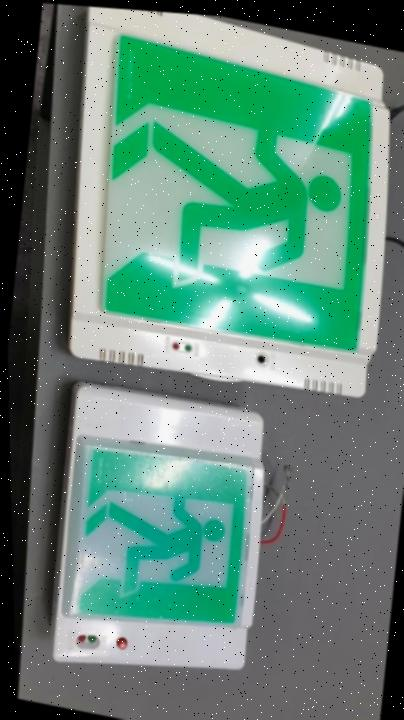emergency_exit: (68, 9, 391, 397), (52, 381, 267, 671)
